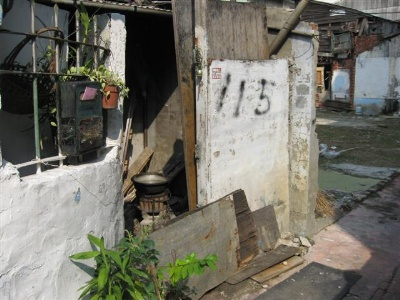bowl: (131, 172, 170, 195)
